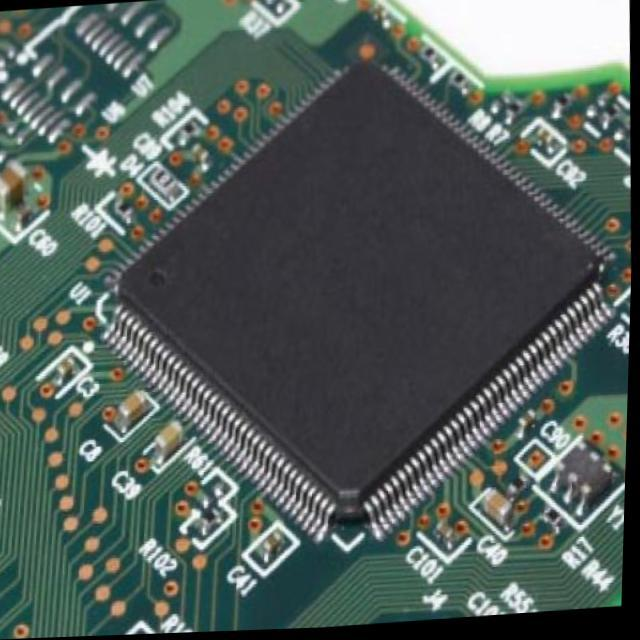IC: (91, 41, 630, 550)
